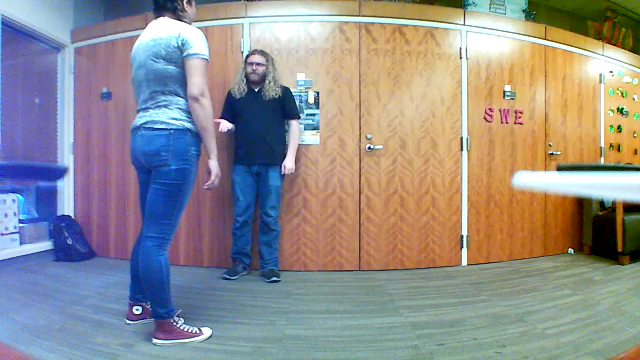land: (205, 114, 235, 134)
